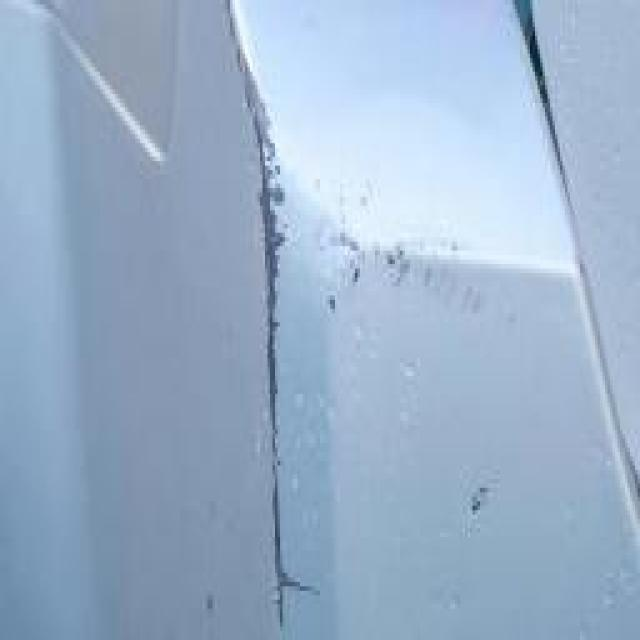Bumper: (212, 0, 458, 640)
